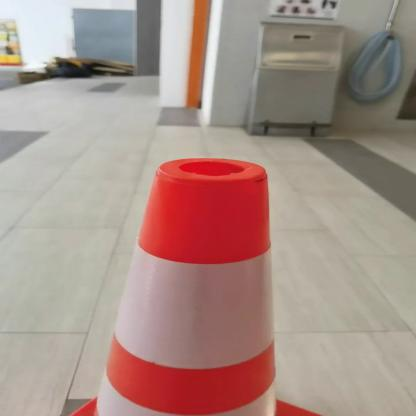cone: (69, 151, 333, 416)
